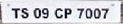character: (32, 7, 41, 19), (54, 7, 63, 19), (11, 7, 20, 18), (20, 7, 28, 19), (76, 7, 84, 19), (101, 7, 109, 19), (84, 8, 92, 19), (41, 7, 48, 19), (64, 7, 71, 19), (93, 7, 100, 19)
